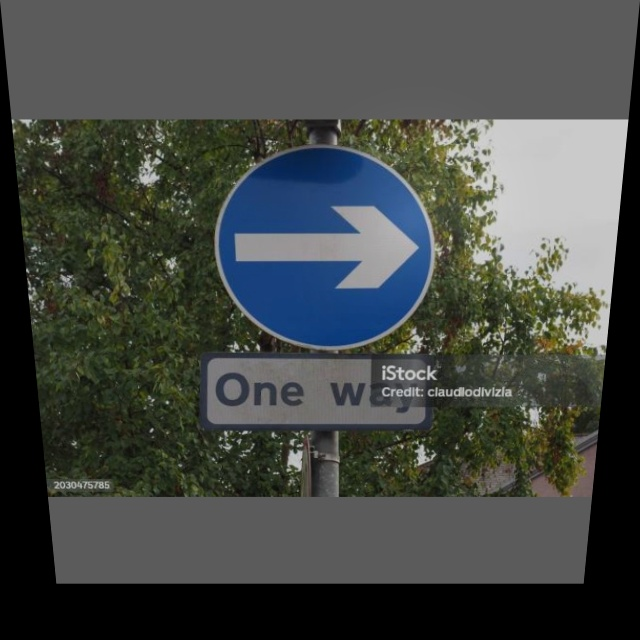Compulsory_Turn_Right: (211, 142, 442, 351)
